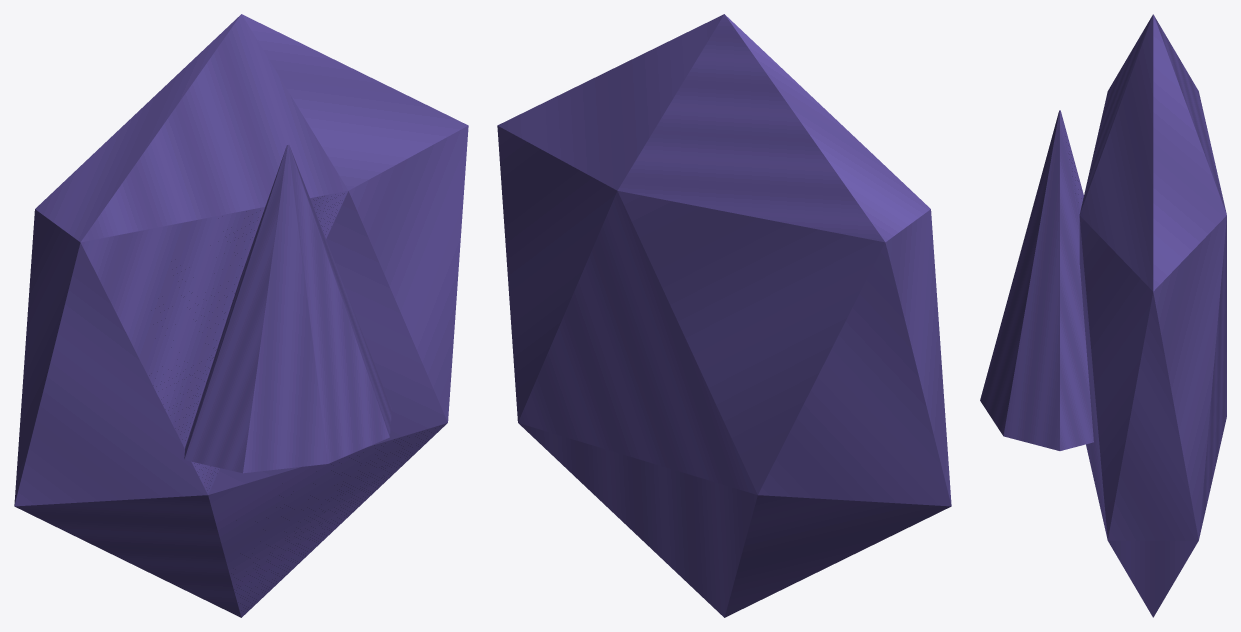
File: heavy.glb
The picture shows the model from 3 angles, left to right: view 1: azimuth 30°, elevation 25°; view 2: azimuth 150°, elevation 25°; view 3: azimuth 270°, elevation 25°; orthographic projection.
Parts seen in each view (by area): view 1: gear_heavy; view 2: gear_heavy; view 3: gear_heavy.
Boxes of the visible parts, box(x1,y1,x2,y2) form: gear_heavy: box(14, 14, 468, 617); gear_heavy: box(497, 14, 951, 617); gear_heavy: box(980, 14, 1226, 617).
Size of the model in its own units: 0.3935 by 0.5 by 0.1853.
Materials: 1 (1 with a texture image).
